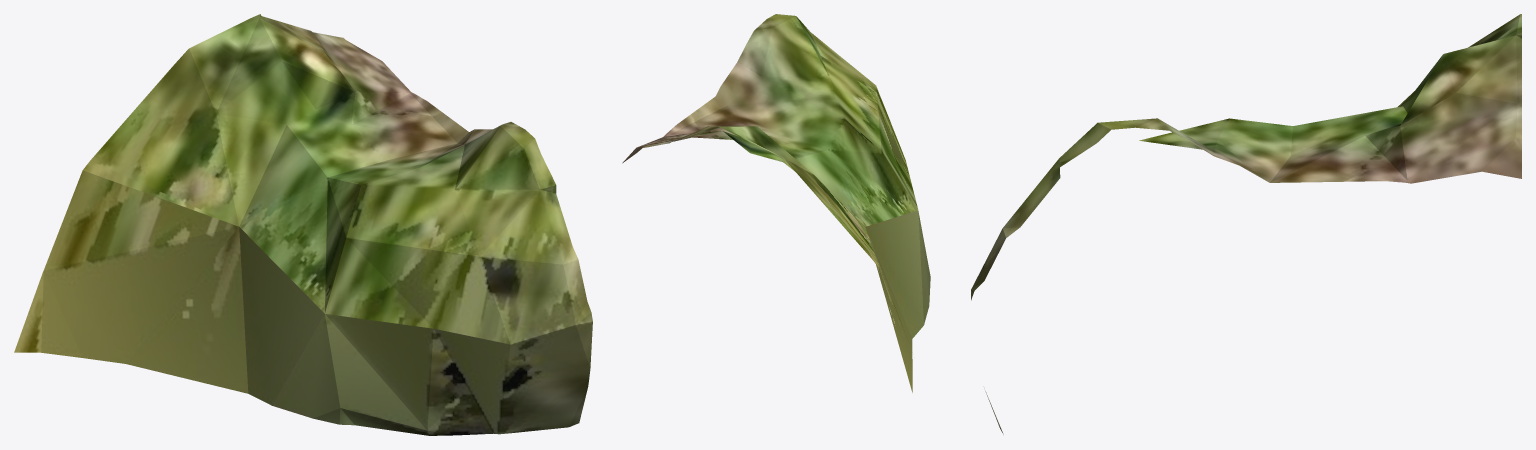
The picture shows the model from 3 angles, left to right: view 1: azimuth 30°, elevation 25°; view 2: azimuth 150°, elevation 25°; view 3: azimuth 270°, elevation 25°; orthographic projection. The views are drawn at different scales.
Size of the model in its own units: 0.5538 by 0.4191 by 0.6189.
Materials: 2 (2 with a texture image).
